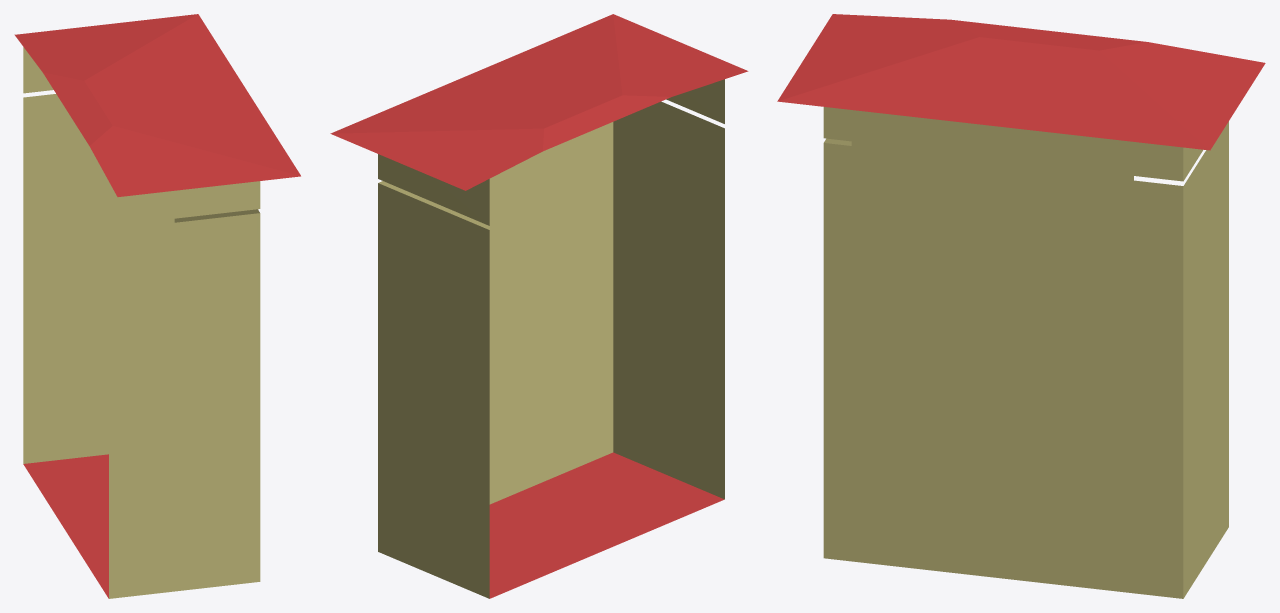
The picture shows the model from 3 angles, left to right: view 1: azimuth 30°, elevation 25°; view 2: azimuth 150°, elevation 25°; view 3: azimuth 270°, elevation 25°; orthographic projection. The views are drawn at different scales.
Bounding box in the file's own units: 6.39 × 9.66 × 10.43.
